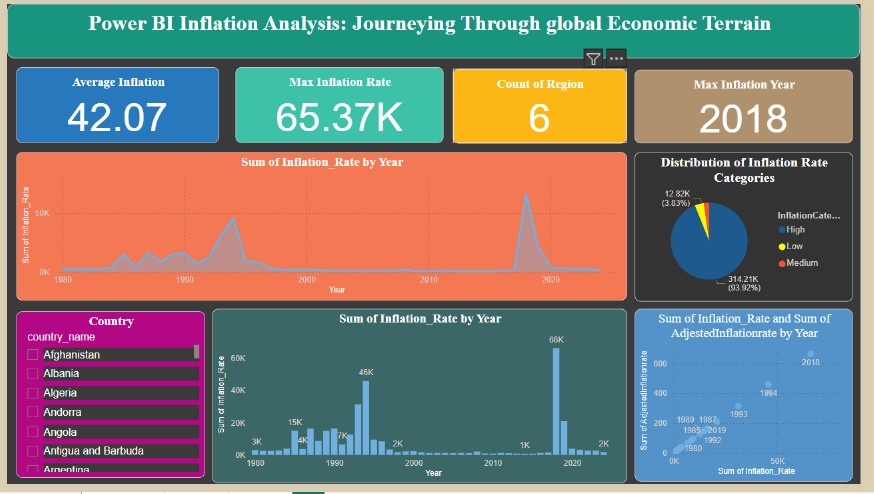

The page's visual inventory and layout, read from the dashboard file:
{"tool":"powerbi","page":{"name":"Dashboard","canvas":[1280,720],"ordinal":0},"visuals":[{"type":"card","title":"Average Inflation","fields":{"Values":["global_inflation_data.AvgInflation"]},"box":[13.6,95.4,304.4,113.6],"z":0},{"type":"textbox","box":[0,0,1279.5,81.8],"z":1000},{"type":"card","title":"Max Inflation Rate","fields":{"Values":["Max(global_inflation_data.Inflation_Rate)"]},"box":[342.2,95.4,311.9,113.6],"z":2000},{"type":"card","title":"Max Inflation Year","fields":{"Values":["global_inflation_data.MaxInflationYear"]},"box":[941.8,98.4,327.1,110.5],"z":3000},{"type":"slicer","title":"Country","fields":{"Values":["global_inflation_data.country_name"]},"box":[13.6,461.8,283.2,249.8],"z":4000},{"type":"areaChart","fields":{"Category":["global_inflation_data.Year"],"Y":["Sum(global_inflation_data.Inflation_Rate)"]},"box":[13.6,222.6,916.1,222.6],"z":5000},{"type":"columnChart","fields":{"Y":["Sum(global_inflation_data.Inflation_Rate)"],"Category":["global_inflation_data.Year"]},"box":[307.4,457.3,622.3,262],"z":6000},{"type":"pieChart","title":"Distribution of Inflation Rate Categories","fields":{"Category":["global_inflation_data.InflationCategory"],"Y":["Sum(global_inflation_data.Inflation_Rate)"]},"box":[941.8,222.6,327.1,224.1],"z":7000},{"type":"card","title":"Count of Region","fields":{"Values":["Count(continents2.region)"]},"box":[669.3,96.9,260.4,112.1],"z":8000},{"type":"scatterChart","fields":{"Category":["global_inflation_data.Year"],"X":["Sum(global_inflation_data.Inflation_Rate)"],"Y":["Sum(global_inflation_data.AdjestedInflationrate)"]},"box":[941.8,457.3,327.1,258.9],"z":9000}]}

Visuals, with their boxes in screenshot pixels (x1, y1, x2, y2), scaled from the page's 1280x720 canvas onto the 874x494 screenshot:
"Average Inflation" card: 9,65,217,143
textbox: 0,0,873,56
"Max Inflation Rate" card: 234,65,447,143
"Max Inflation Year" card: 643,68,866,143
"Country" slicer: 9,317,203,488
areaChart - global_inflation_data.Year x Sum(global_inflation_data.Inflation_Rate): 9,153,635,305
columnChart - Sum(global_inflation_data.Inflation_Rate) x global_inflation_data.Year: 210,314,635,493
"Distribution of Inflation Rate Categories" pieChart: 643,153,866,306
"Count of Region" card: 457,66,635,143
scatterChart - global_inflation_data.Year x Sum(global_inflation_data.Inflation_Rate): 643,314,866,491
